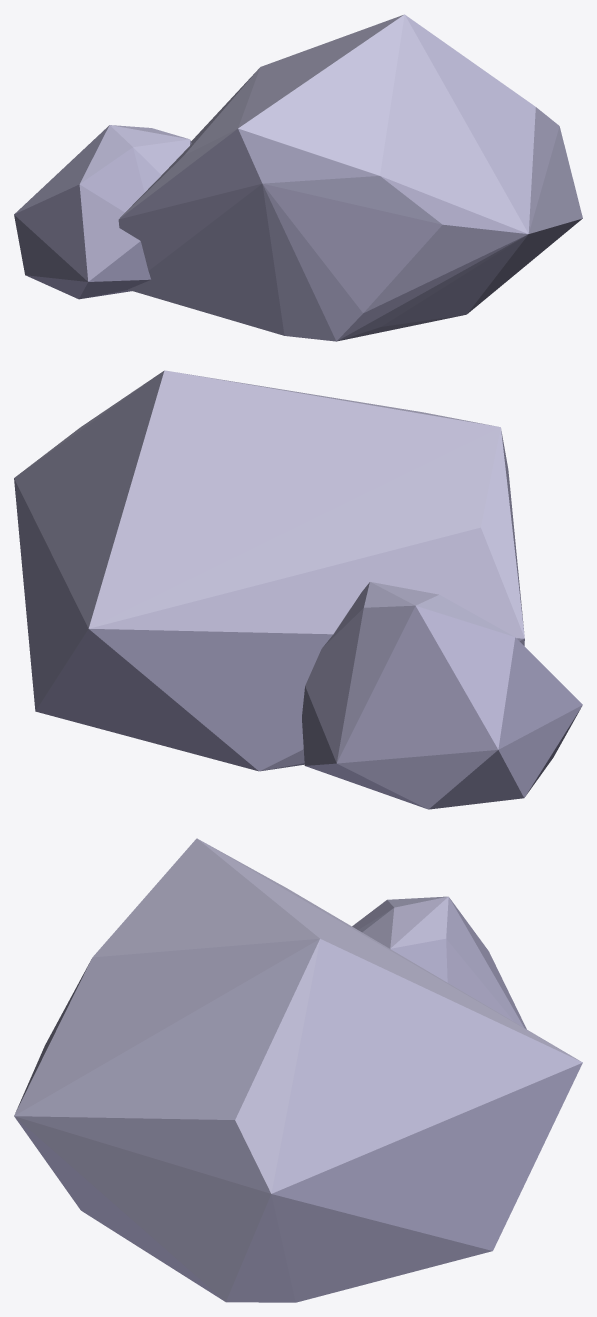
Rendered from Rock_2.glb.
3 views of the same model, one above another, from view 1: azimuth 30°, elevation 25°; view 2: azimuth 150°, elevation 25°; view 3: azimuth 270°, elevation 25° (orthographic). The views are drawn at different scales.
Parts seen in each view (by area): view 1: Rock_2; view 2: Rock_2; view 3: Rock_2.
Boxes of the visible parts, x1,y1,x2,y2 form: Rock_2: (14, 14, 582, 341); Rock_2: (14, 370, 582, 809); Rock_2: (14, 838, 582, 1302).
Size of the model in its own units: 3.84 by 1.75 by 3.1.
Materials: 1 (1 with a texture image).
